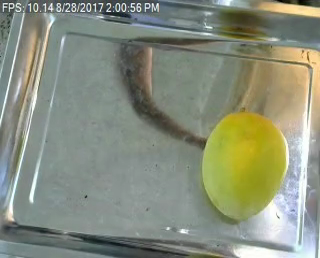Mango: (200, 114, 289, 218)
